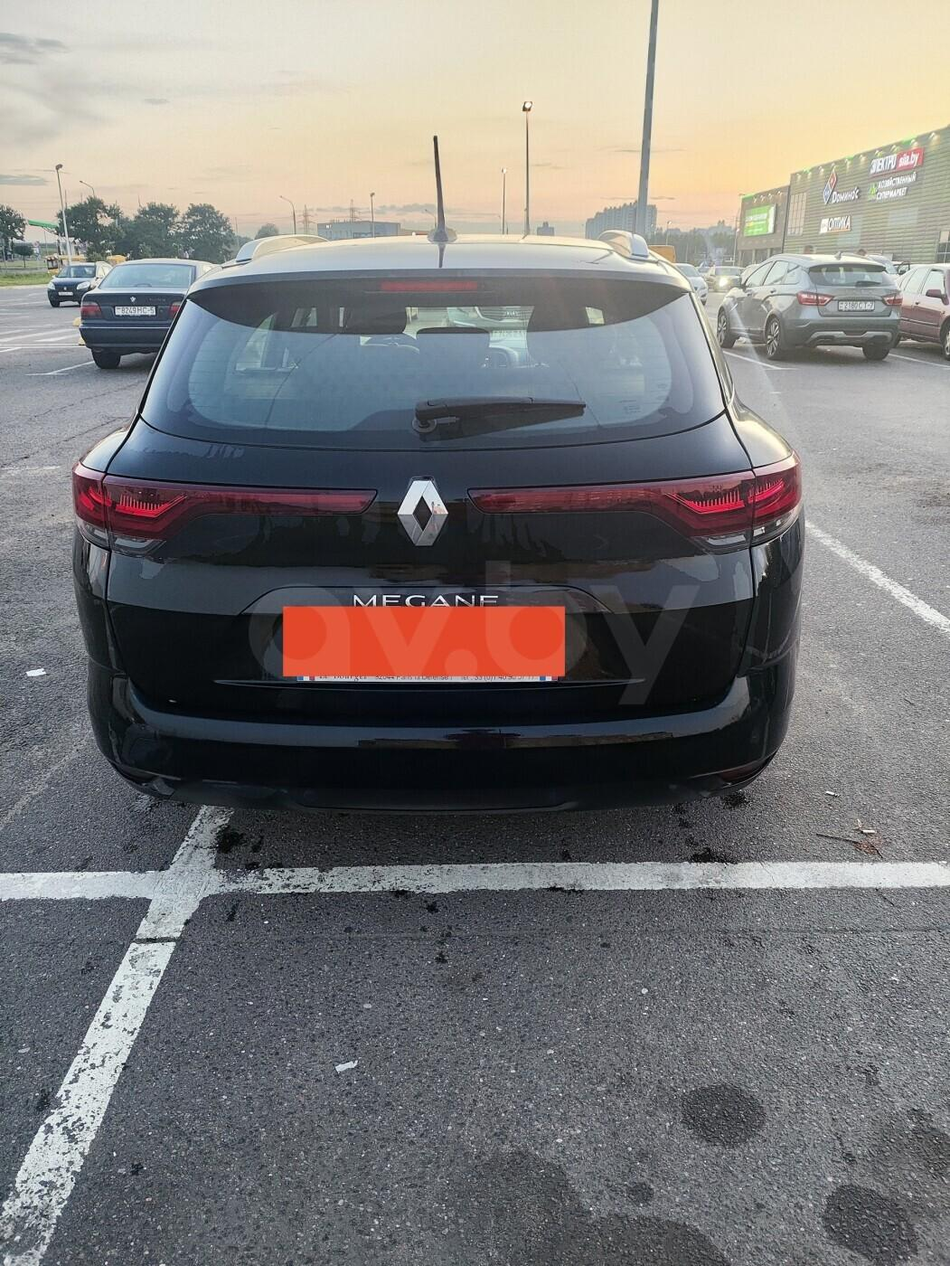Megane_2020: (65, 212, 804, 794)
